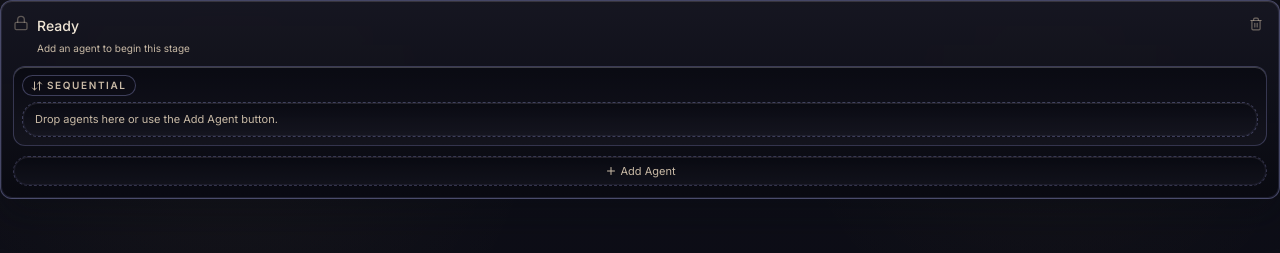
Scenario: StageCard › renders available agents in the picker when discovery succeeds
Click the button "Add Agent".
click(640, 171)  # box [13,156,1267,186]
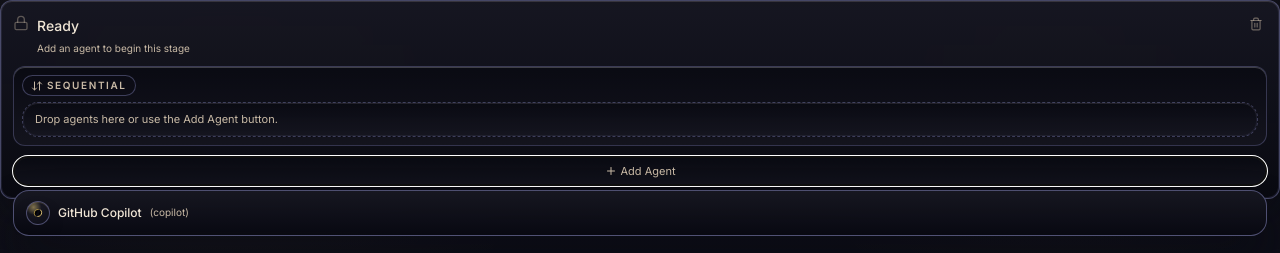
Result: the text "GitHub Copilot" is shown at [58,205,142,221]
Result: the text "(copilot)" is shown at [150,206,189,220]
